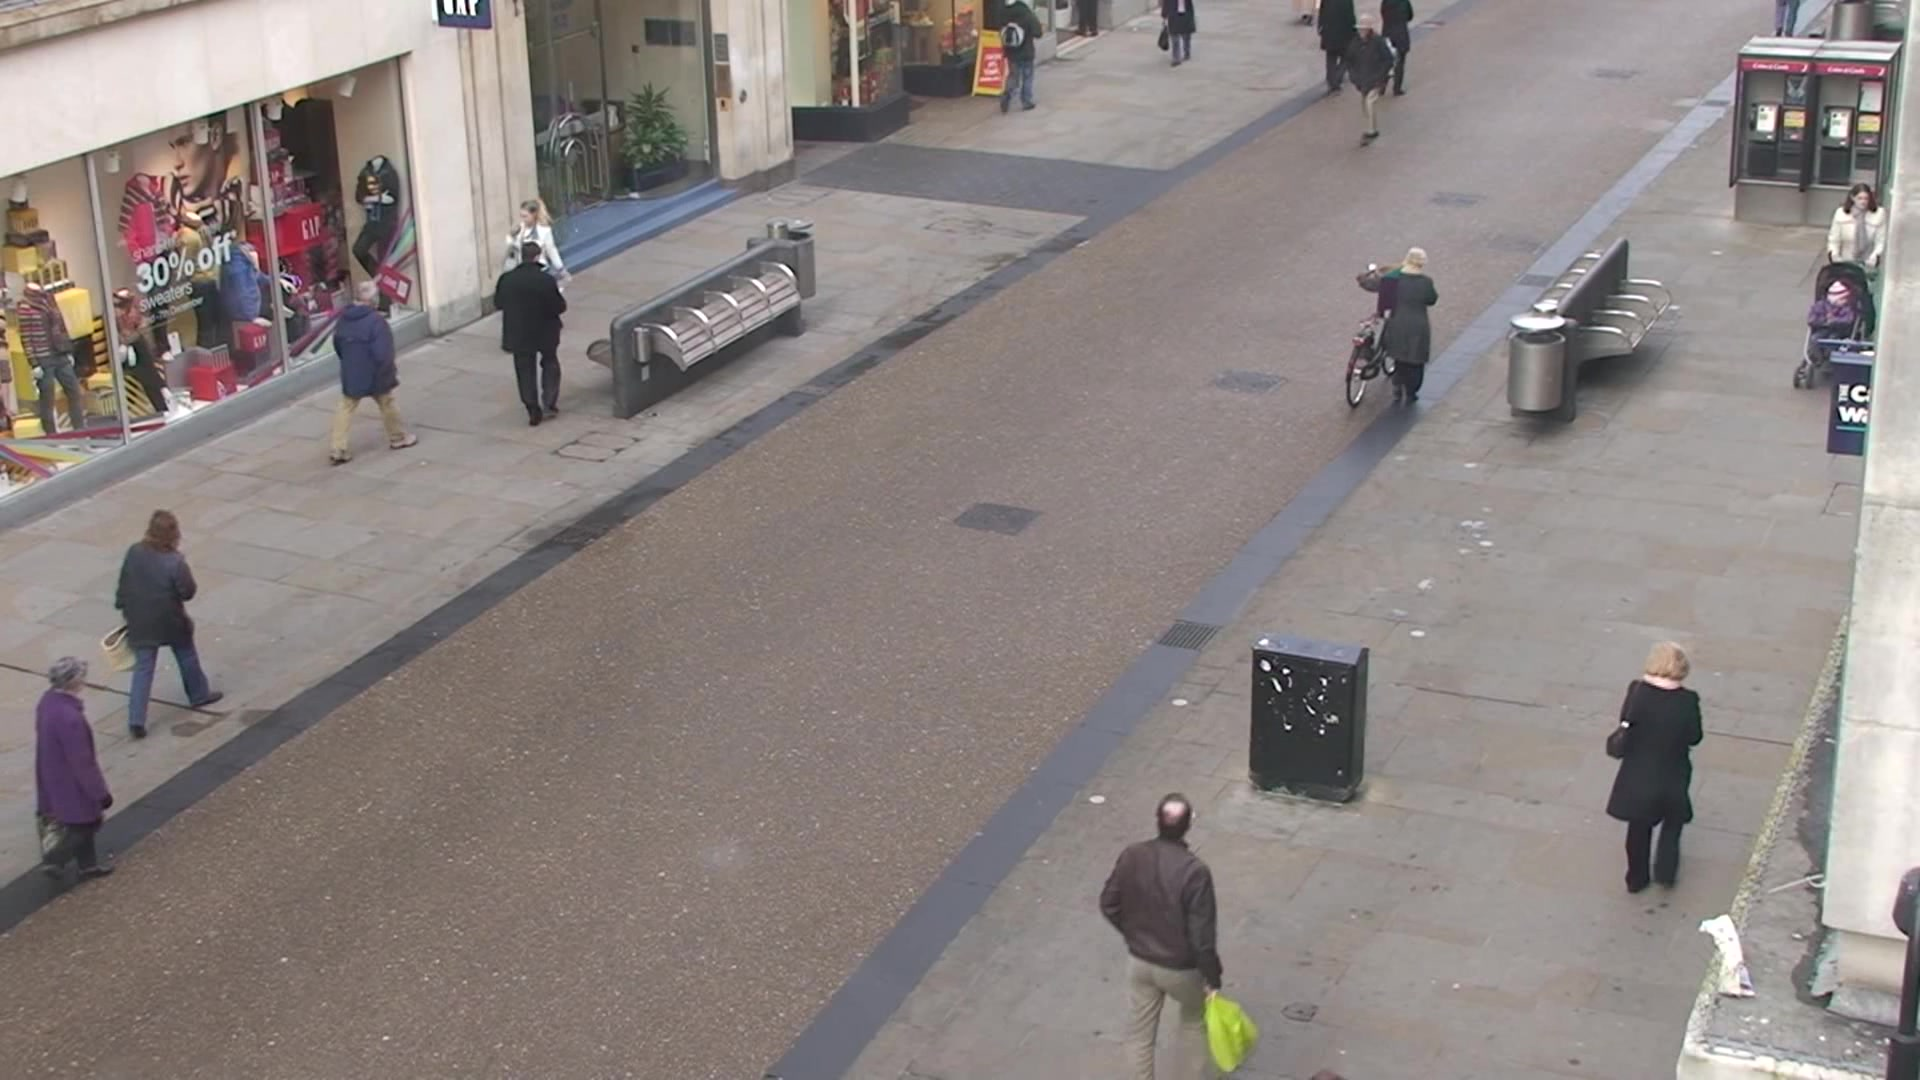person: (114, 511, 225, 736), (1606, 645, 1702, 893), (37, 657, 115, 886), (327, 279, 419, 465), (493, 242, 570, 427), (1356, 247, 1439, 411), (1343, 13, 1392, 147)
